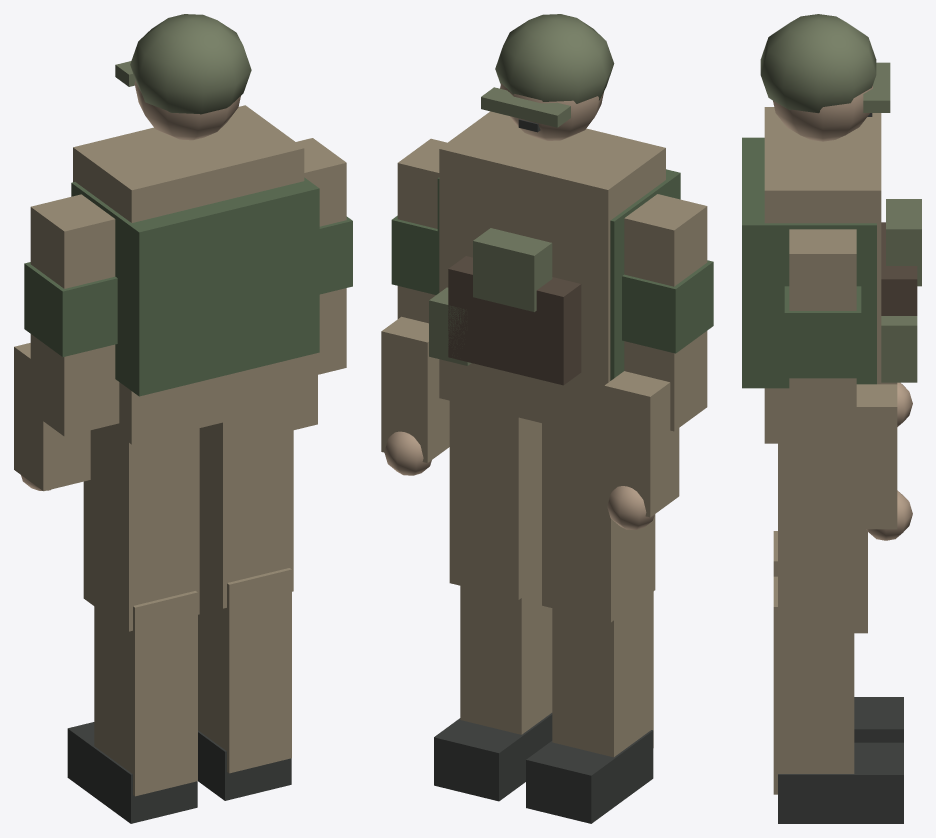
Rendered from c_engineer.glb.
3 views of the same model, side by side, from view 1: azimuth 30°, elevation 25°; view 2: azimuth 150°, elevation 25°; view 3: azimuth 270°, elevation 25° (orthographic). The views are drawn at different scales.
Visible parts, largest first — view 1: torso, leg_l, leg_r, arm_l, head, arm_r; view 2: torso, leg_l, leg_r, arm_l, arm_r, head; view 3: leg_r, torso, arm_r, head, leg_l, arm_l.
Part boxes in pixels (box(x1,y1,x2,y2)): torso: box(71, 105, 319, 444); leg_l: box(67, 426, 199, 823); leg_r: box(198, 405, 293, 800); arm_l: box(14, 194, 119, 491); head: box(115, 14, 251, 140); arm_r: box(293, 138, 352, 429); torso: box(429, 111, 680, 438); leg_l: box(526, 423, 655, 823); leg_r: box(434, 401, 552, 801); arm_l: box(604, 194, 713, 529); arm_r: box(381, 138, 449, 475); head: box(481, 14, 614, 140); leg_r: box(773, 443, 903, 823); torso: box(742, 107, 921, 443); arm_r: box(784, 229, 912, 540); head: box(760, 14, 890, 141); leg_l: box(773, 531, 903, 742); arm_l: box(881, 382, 912, 426).
Bounding box in the file's own units: 0.74 × 1.87 × 0.4.
